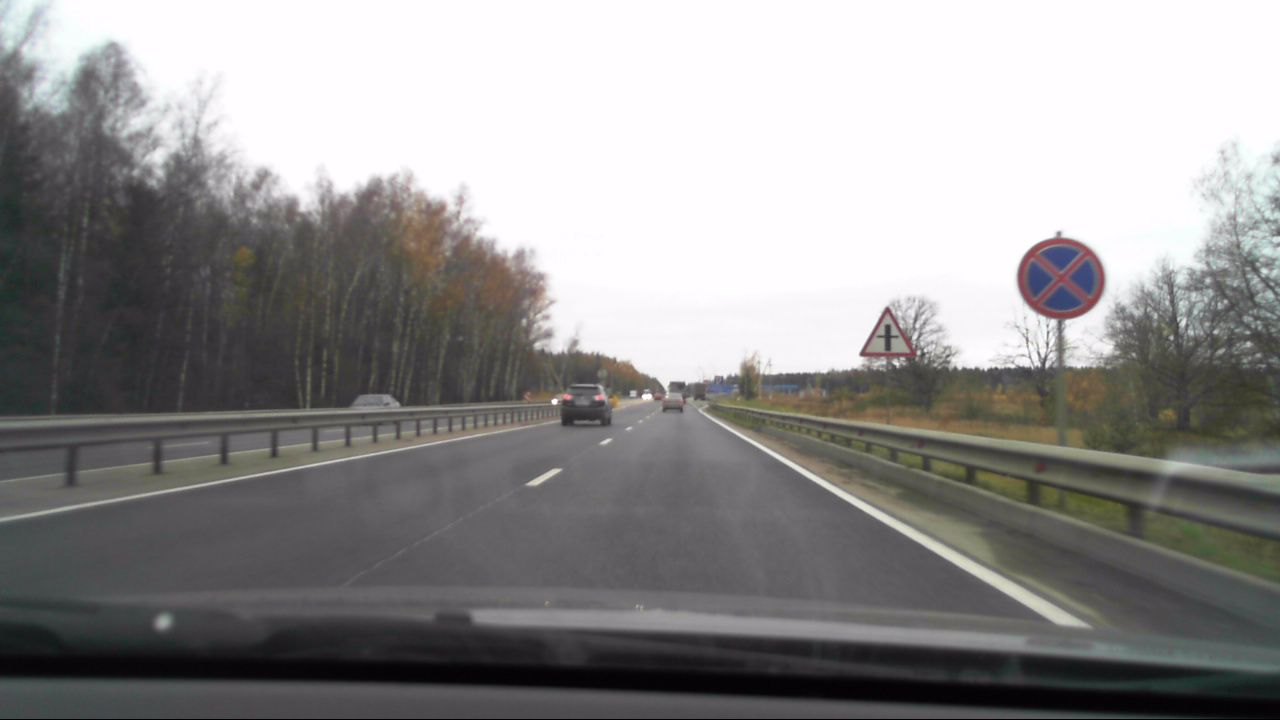No Parking: (1014, 233, 1108, 320)
